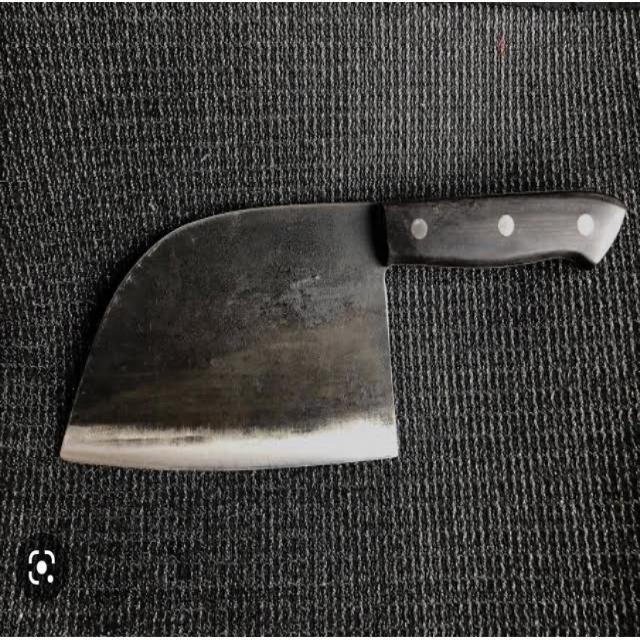Knife: (49, 169, 628, 486)
